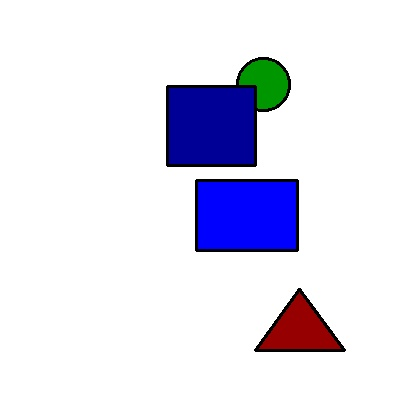circle: (210, 58, 316, 110)
rectangle: (196, 180, 297, 250), (167, 86, 255, 165)
triangle: (255, 289, 344, 350)
